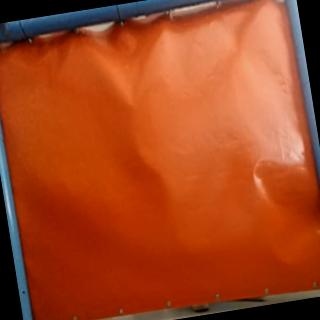Hit-hRxx: (122, 96, 144, 113)
